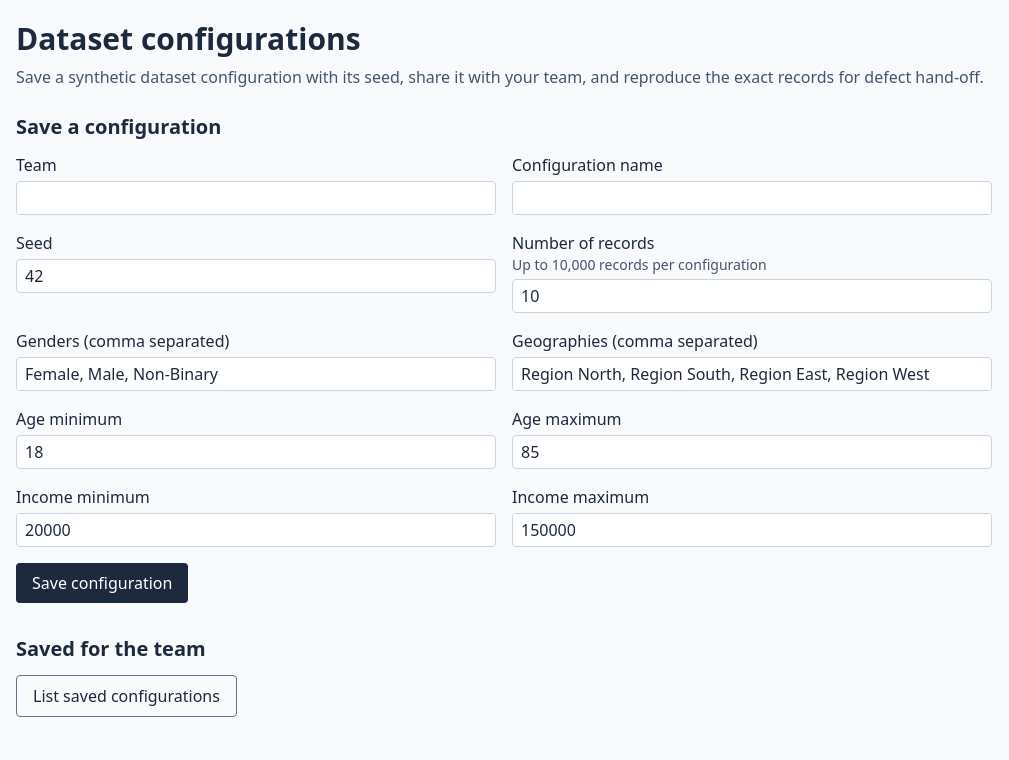
Test case: DatasetConfigurationsPage › has no accessibility violations, with the list loaded
Click the button "List saved configurations".
click(126, 696)  # box [16,675,237,717]
(page scrolled)
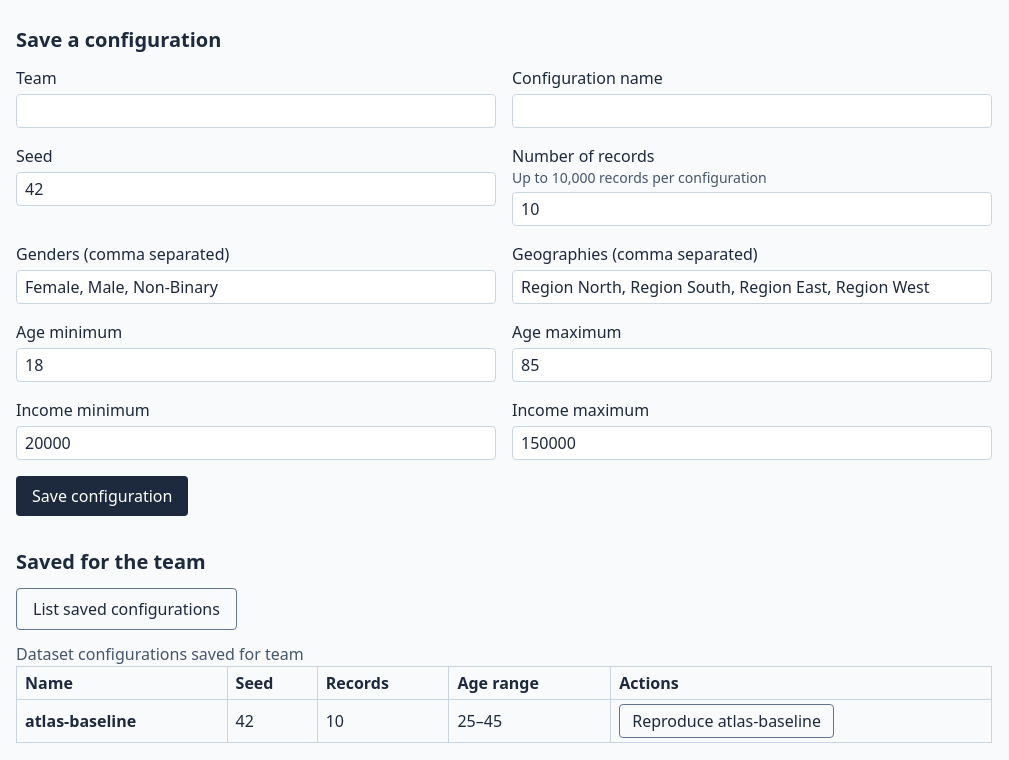
expect the table "Dataset configurations saved for team" is shown: met, box [16,642,992,743]
